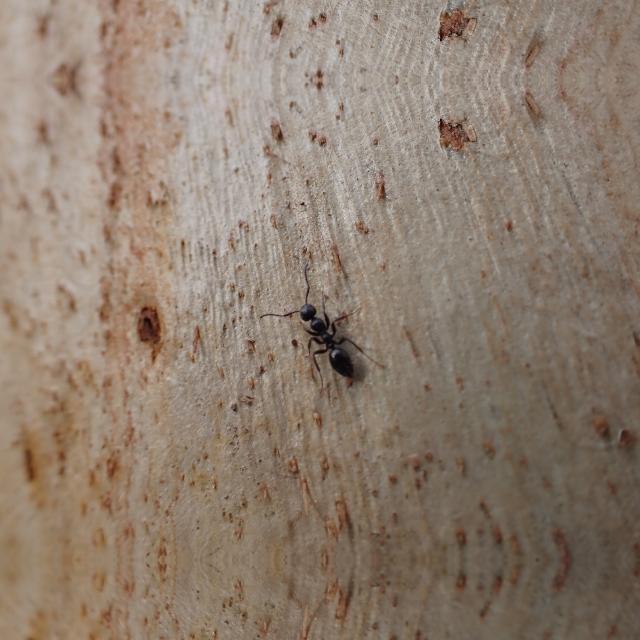Colobopsis: (278, 288, 372, 382)
